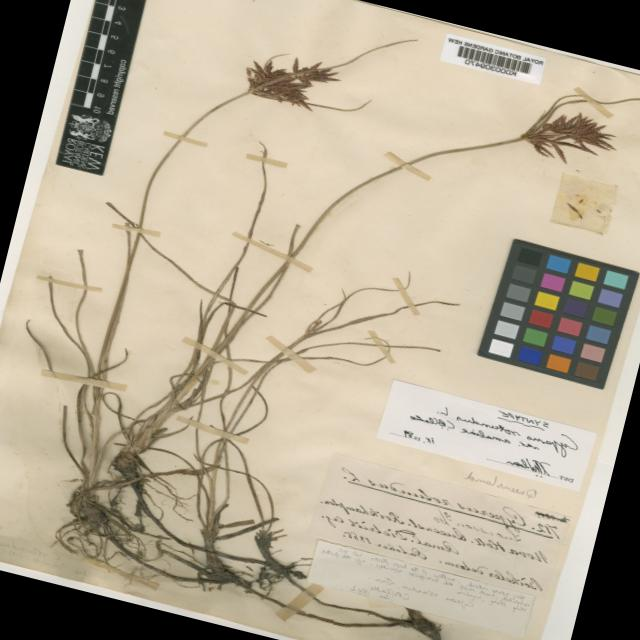cyperus: (228, 38, 348, 124), (502, 94, 624, 178)
